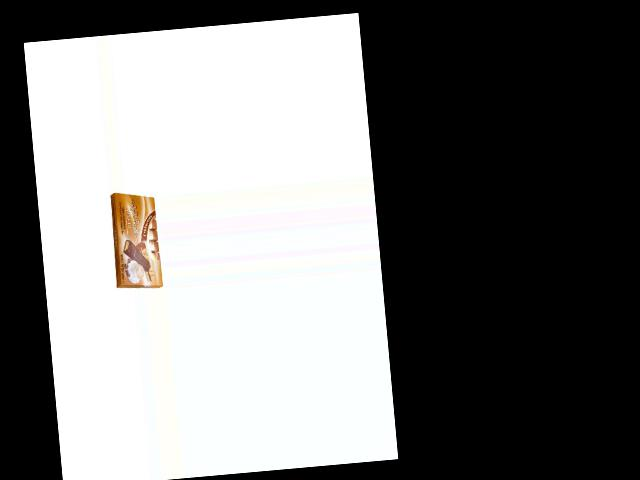chocolate: (108, 187, 163, 292)
